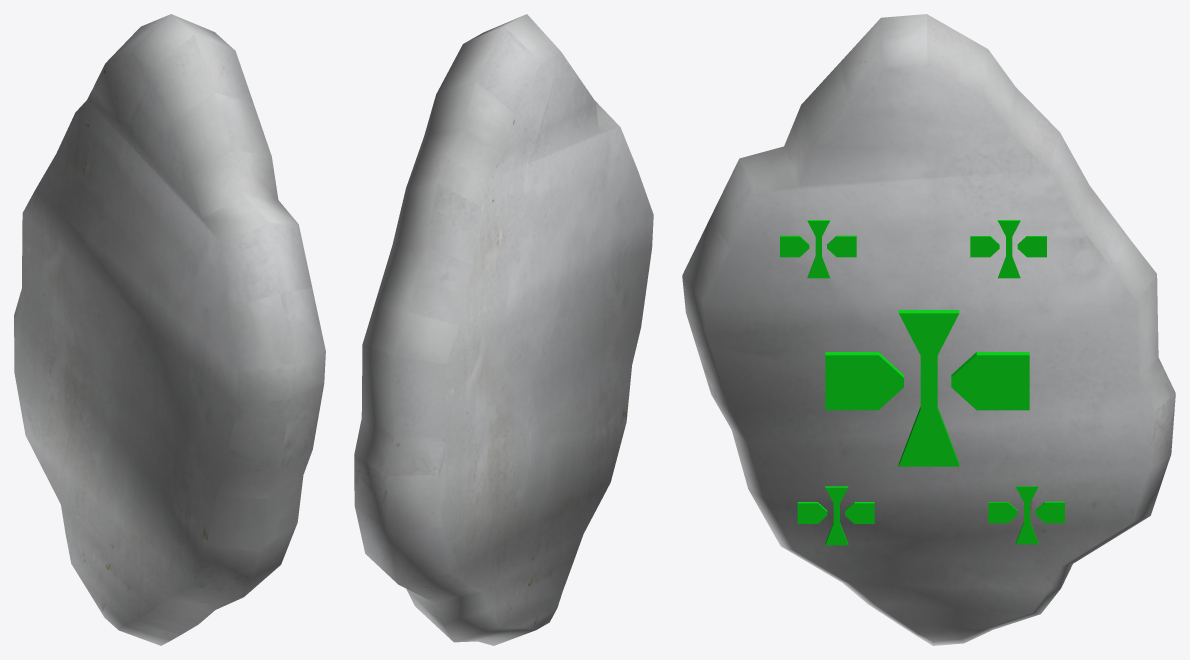
The model's file is healingrune.fbx.
3 views of the same model, side by side, from view 1: azimuth 30°, elevation 25°; view 2: azimuth 150°, elevation 25°; view 3: azimuth 270°, elevation 25° (orthographic). The views are drawn at different scales.
Visible parts, largest first — view 1: Cube.004; view 2: Cube.004; view 3: Cube.004.
Boxes of the visible parts, box(x1,y1,x2,y2) form: Cube.004: box(14, 14, 325, 645); Cube.004: box(354, 14, 653, 645); Cube.004: box(682, 14, 1175, 645).
Bounding box in the file's own units: 36.69 × 221 × 155.
